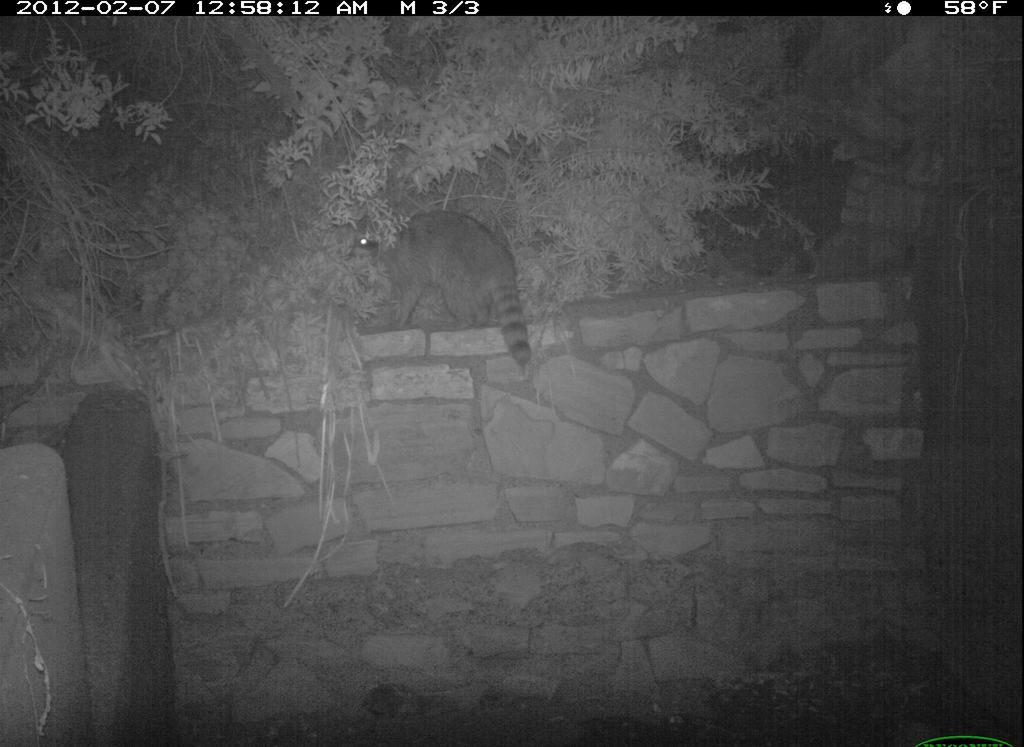raccoon: (347, 205, 537, 372)
